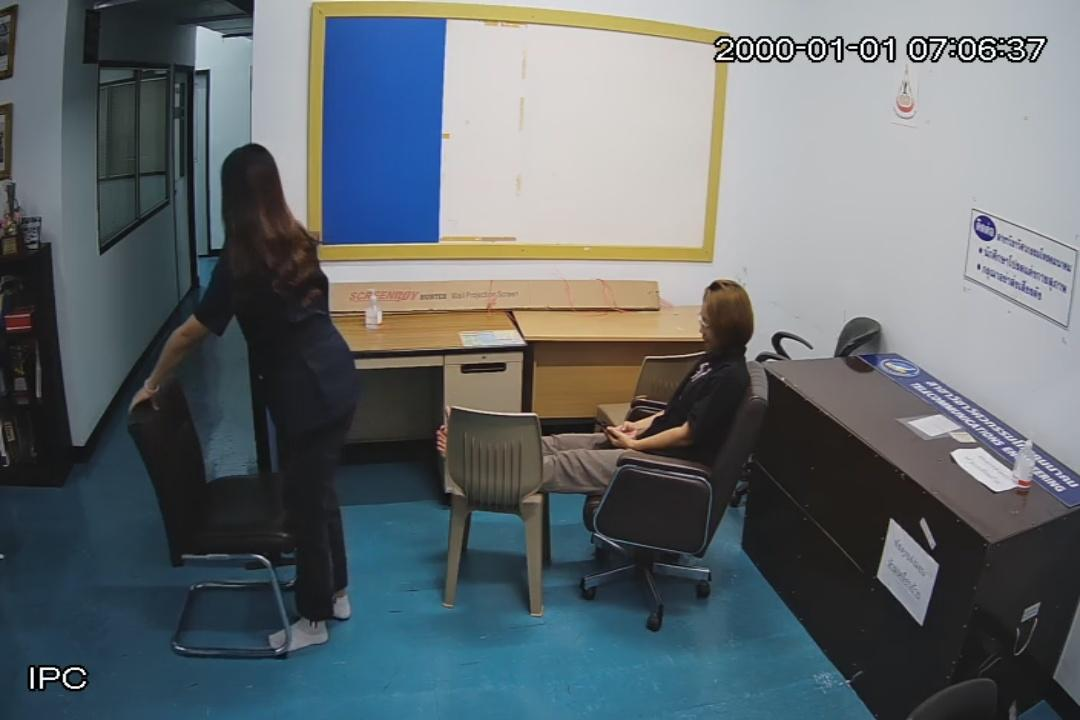normal: (129, 136, 366, 654), (542, 268, 762, 500)
